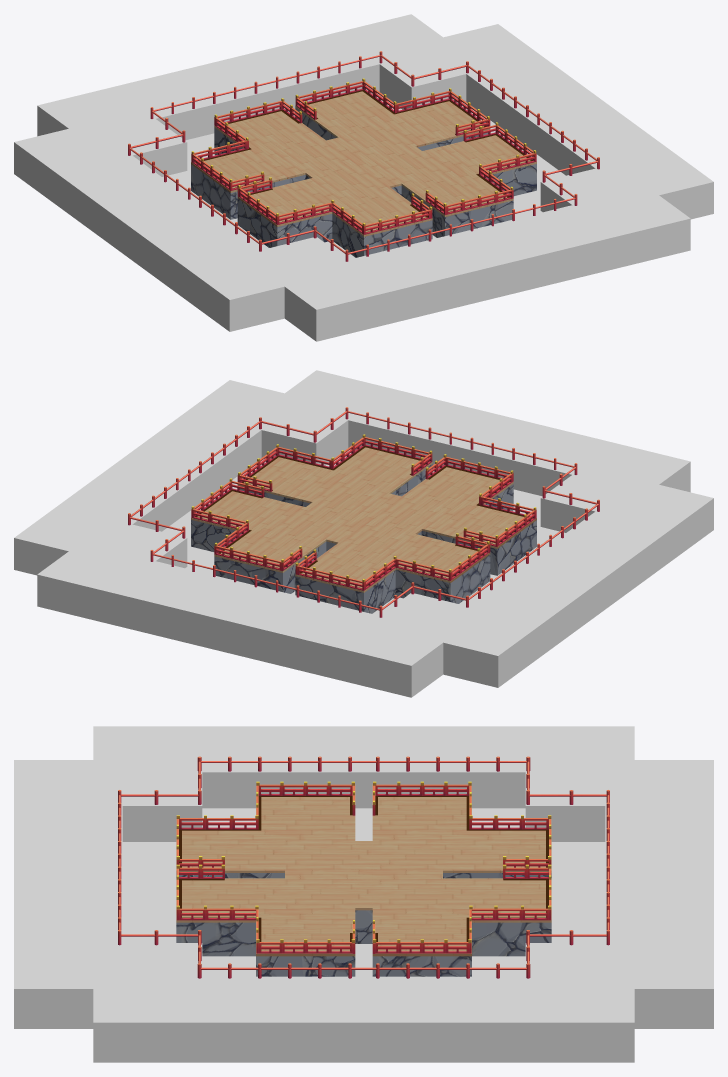
File: Battle_Stage 6.fbx
3 views of the same model, one above another, from view 1: azimuth 30°, elevation 25°; view 2: azimuth 150°, elevation 25°; view 3: azimuth 270°, elevation 25° (orthographic). The views are drawn at different scales.
Parts seen in each view (by area): view 1: BottomRight.001, BottomRight, Cube.087, Cube.086, BottomRight.002; view 2: BottomRight.001, BottomRight, Cube.087, Cube.086, BottomRight.002; view 3: BottomRight.001, BottomRight, Cube.087, Cube.086, BottomRight.002.
Boxes of the visible parts, bbox=[...] form: BottomRight.001: bbox=[14, 14, 713, 341]; BottomRight: bbox=[191, 91, 536, 257]; Cube.087: bbox=[191, 78, 536, 234]; Cube.086: bbox=[128, 51, 599, 261]; BottomRight.002: bbox=[195, 90, 532, 232]; BottomRight.001: bbox=[14, 370, 713, 697]; BottomRight: bbox=[191, 447, 536, 613]; Cube.087: bbox=[191, 434, 536, 590]; Cube.086: bbox=[128, 407, 599, 617]; BottomRight.002: bbox=[195, 446, 532, 588]; BottomRight.001: bbox=[14, 726, 713, 1062]; BottomRight: bbox=[176, 795, 551, 976]; Cube.087: bbox=[176, 781, 551, 953]; Cube.086: bbox=[118, 756, 609, 978]; BottomRight.002: bbox=[179, 796, 548, 950].
Bounding box in the file's own units: 15867 × 1346 × 15849.
